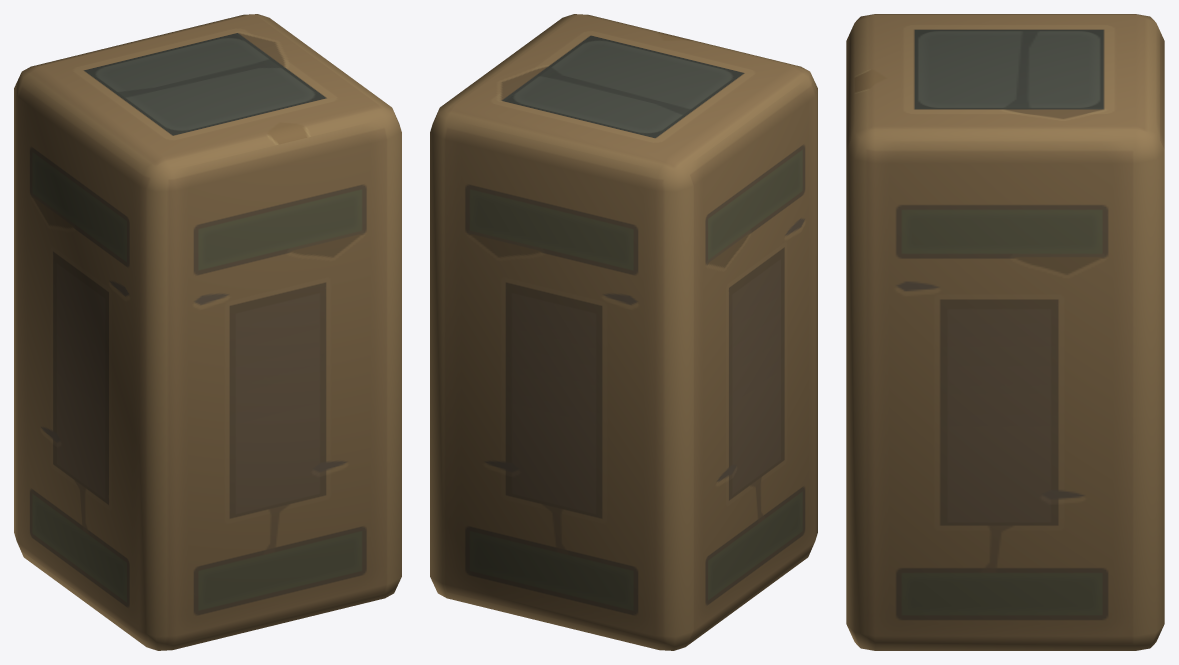
Rendered from G_016_SpinBox_Sub_2.FBX.
3 views of the same model, side by side, from view 1: azimuth 30°, elevation 25°; view 2: azimuth 150°, elevation 25°; view 3: azimuth 270°, elevation 25° (orthographic). The views are drawn at different scales.
Parts seen in each view (by area): view 1: G_016_SpinBox_Sub_2; view 2: G_016_SpinBox_Sub_2; view 3: G_016_SpinBox_Sub_2.
Part boxes in pixels (x1,y1,x2,y2): G_016_SpinBox_Sub_2: (14, 14, 401, 650); G_016_SpinBox_Sub_2: (430, 14, 817, 650); G_016_SpinBox_Sub_2: (846, 14, 1164, 650).
Size of the model in its own units: 220 by 400 by 220.
